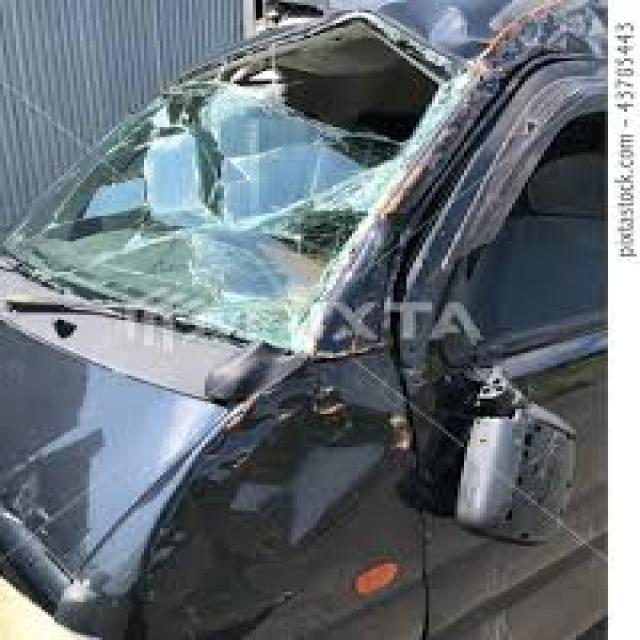damaged-windscreen: (5, 15, 444, 366)
